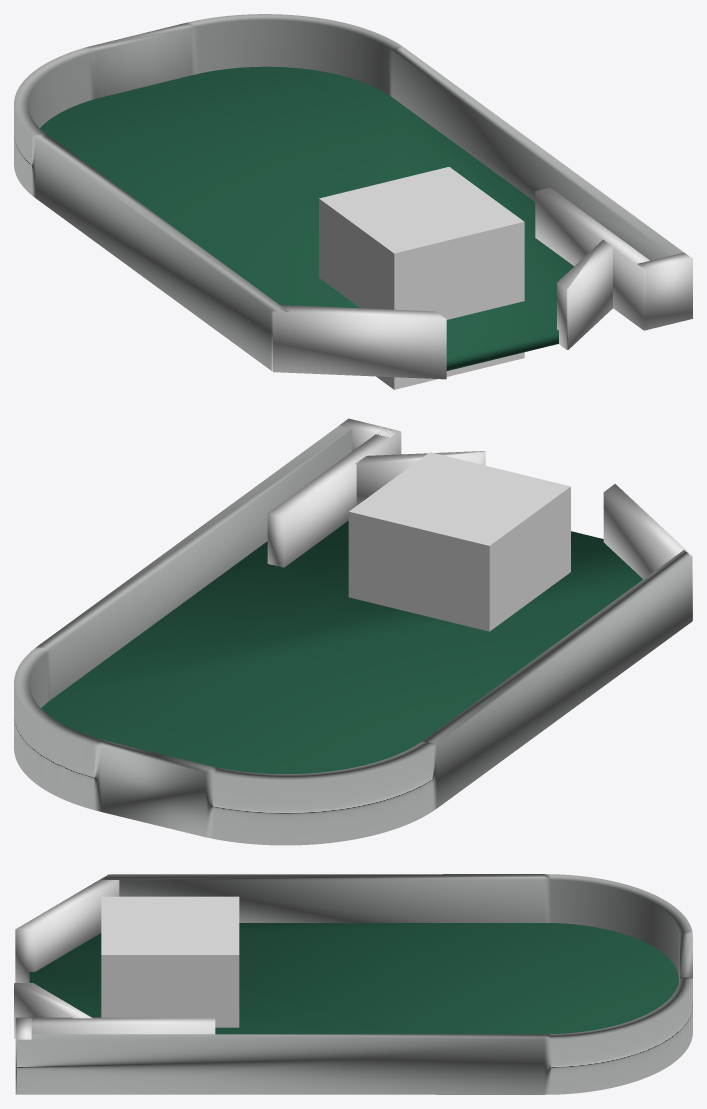
Rendered from BaseFlipper.glb.
The picture shows the model from 3 angles, top to bottom: view 1: azimuth 30°, elevation 25°; view 2: azimuth 150°, elevation 25°; view 3: azimuth 270°, elevation 25°; orthographic projection. The views are drawn at different scales.
Visible parts, largest first — view 1: Murs, Sol, Cube.001_BAK, Cube_BAK, Cube.002_BAK; view 2: Murs, Sol, Cube.001_BAK, Cube_BAK, Cube.002_BAK; view 3: Murs, Sol, Cube.002_BAK, Cube.001_BAK, Cube_BAK.
Part boxes in pixels (left/top/right/bottom): Murs: left=14, top=14, right=692, bottom=379; Sol: left=40, top=66, right=573, bottom=370; Cube.001_BAK: left=319, top=167, right=512, bottom=389; Cube_BAK: left=319, top=181, right=483, bottom=387; Cube.002_BAK: left=377, top=167, right=524, bottom=375; Murs: left=14, top=418, right=692, bottom=845; Sol: left=41, top=521, right=642, bottom=773; Cube.001_BAK: left=352, top=455, right=570, bottom=630; Cube_BAK: left=402, top=463, right=561, bottom=631; Cube.002_BAK: left=348, top=452, right=509, bottom=616; Murs: left=14, top=874, right=692, bottom=1094; Sol: left=29, top=923, right=678, bottom=1034; Cube.002_BAK: left=101, top=921, right=239, bottom=1027; Cube.001_BAK: left=101, top=896, right=239, bottom=953; Cube_BAK: left=101, top=896, right=239, bottom=936.
Bounding box in the file's own units: 5.68 × 2 × 9.83.
